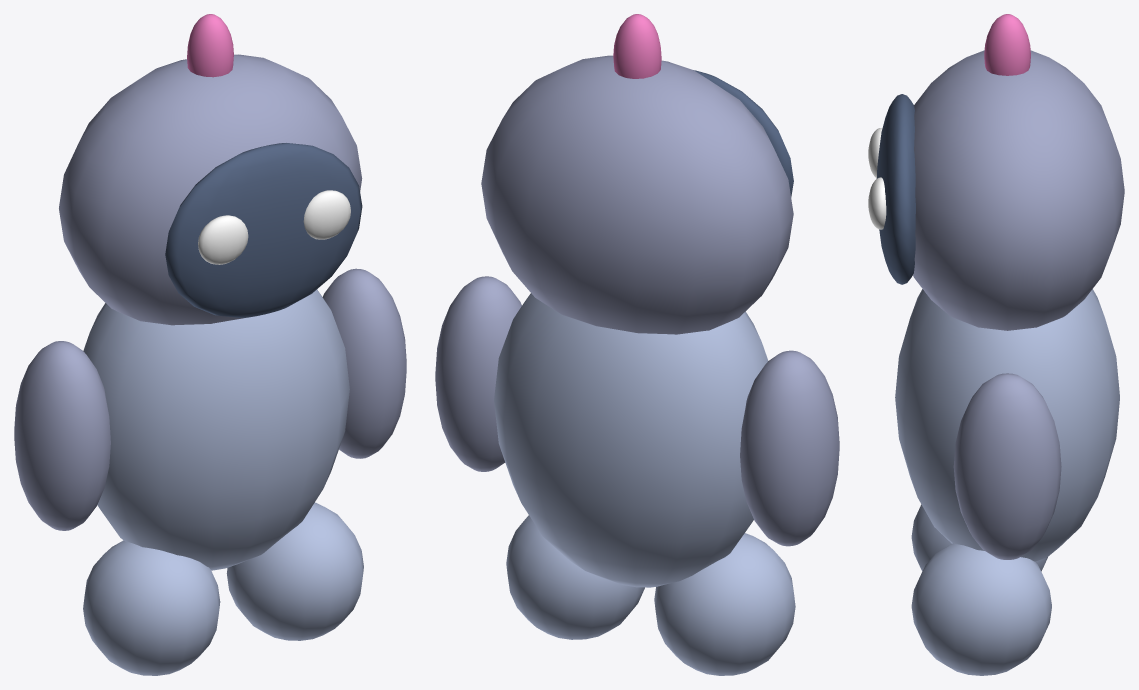
The model's file is hero-robot.glb.
3 views of the same model, side by side, from view 1: azimuth 30°, elevation 25°; view 2: azimuth 150°, elevation 25°; view 3: azimuth 270°, elevation 25° (orthographic). The views are drawn at different scales.
Parts seen in each view (by area): view 1: torso, head, foot (×2), arm (×2), face, eye (×2), antenna; view 2: head, torso, arm (×2), foot (×2), antenna, face; view 3: head, torso, foot (×2), arm, face, antenna, eye (×2).
Boxes of the visible parts, <box> form: torso: <box>83,289,349,570</box>; head: <box>59,54,362,325</box>; foot (×2): <box>83,502,363,675</box>; arm (×2): <box>14,268,406,530</box>; face: <box>165,143,362,317</box>; eye (×2): <box>198,190,350,264</box>; antenna: <box>187,14,233,77</box>; head: <box>481,55,793,334</box>; torso: <box>494,293,768,587</box>; arm (×2): <box>435,276,839,546</box>; foot (×2): <box>506,515,795,675</box>; antenna: <box>613,14,661,78</box>; face: <box>694,70,793,197</box>; head: <box>913,50,1124,330</box>; torso: <box>895,289,1119,561</box>; foot (×2): <box>911,504,1051,675</box>; arm: <box>953,373,1061,559</box>; face: <box>876,94,915,284</box>; antenna: <box>984,14,1030,75</box>; eye (×2): <box>868,128,886,229</box>.
Bounding box in the file's own units: 1.84 × 2.92 × 1.1.
